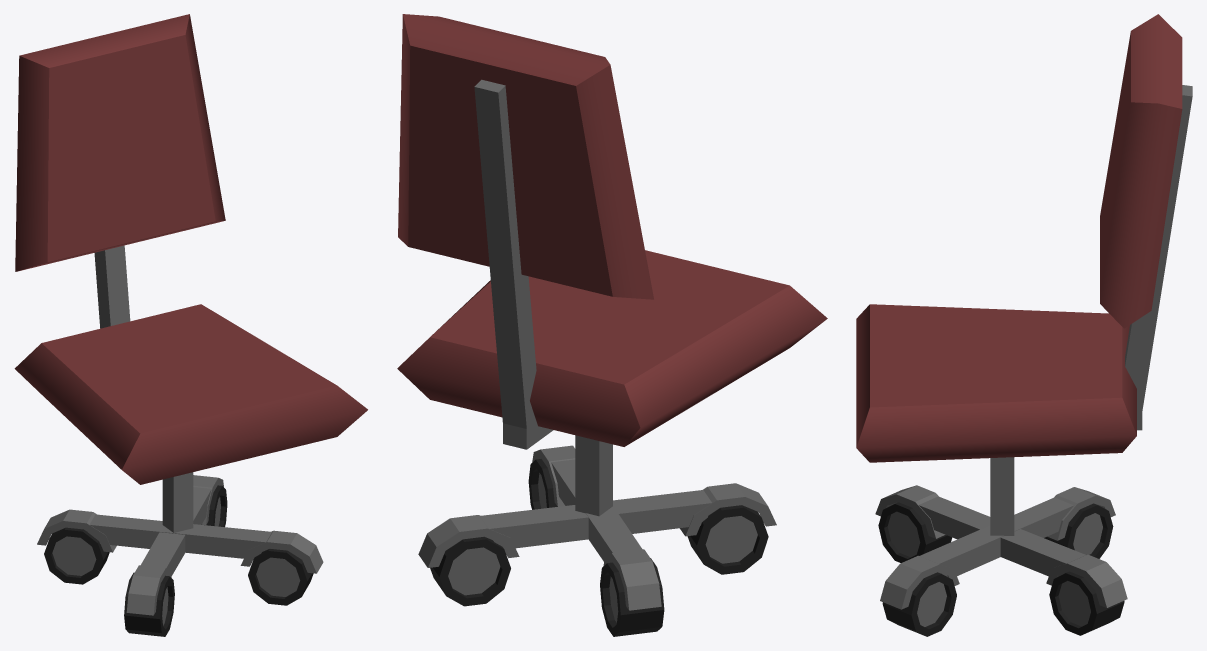
Rendered from SM_Chair.fbx.
3 views of the same model, side by side, from view 1: azimuth 30°, elevation 25°; view 2: azimuth 150°, elevation 25°; view 3: azimuth 270°, elevation 25° (orthographic). The views are drawn at different scales.
Visible parts, largest first — view 1: pasted__pCube1, pCube1, pasted__pasted__pasted__pCube2, pasted__pCube2; view 2: pasted__pCube1, pCube1, pasted__pasted__pasted__pCube2, pasted__pCube2 (×2); view 3: pCube1, pasted__pasted__pasted__pCube2, pasted__pCube1, pasted__pCube2.
Boxes of the visible parts, x1,y1,x2,y2 form: pasted__pCube1: (15, 14, 225, 328); pCube1: (14, 304, 367, 484); pasted__pasted__pasted__pCube2: (37, 475, 323, 636); pasted__pCube2: (162, 472, 193, 532); pasted__pCube1: (398, 14, 653, 431); pCube1: (397, 250, 827, 446); pasted__pasted__pasted__pCube2: (418, 445, 776, 636); pasted__pCube2 (×2): (503, 423, 612, 516); pCube1: (856, 304, 1136, 462); pasted__pasted__pasted__pCube2: (875, 485, 1127, 636); pasted__pCube1: (1100, 14, 1192, 414); pasted__pCube2: (990, 457, 1014, 535).
Bounding box in the file's own units: 3.66 × 7.05 × 4.02.
